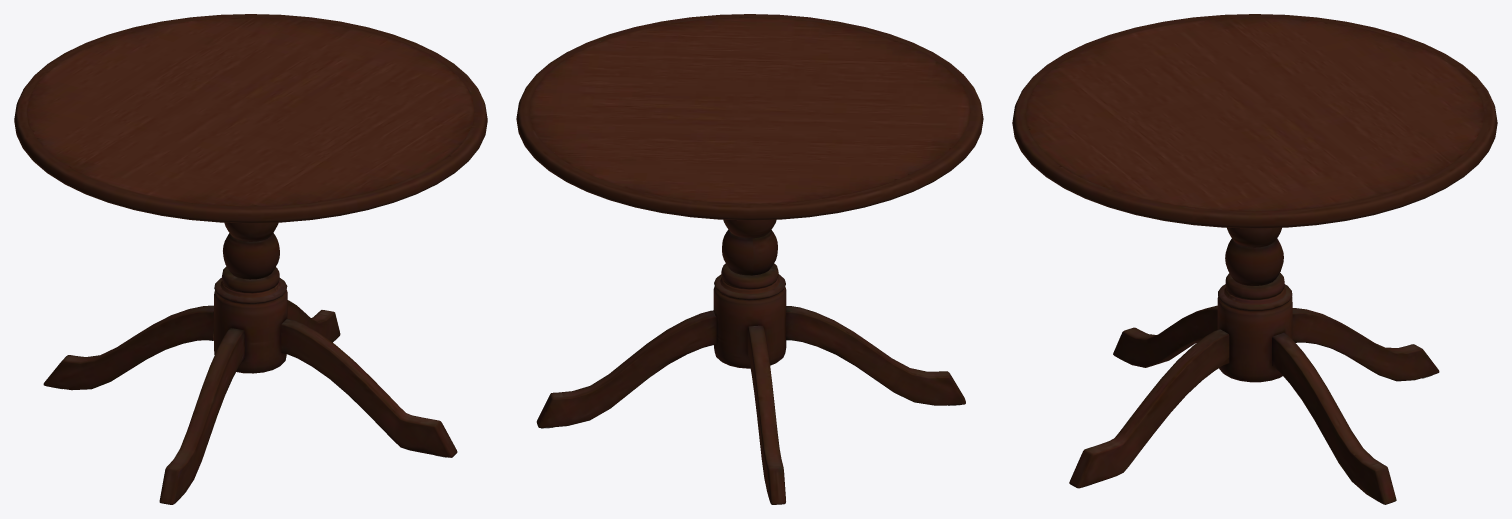
Rendered from round_wooden_table_01.glb.
3 renders of one model, left to right at view 1: azimuth 30°, elevation 25°; view 2: azimuth 150°, elevation 25°; view 3: azimuth 270°, elevation 25°, orthographic. The views are drawn at different scales.
Parts seen in each view (by area): view 1: round_wooden_table_01; view 2: round_wooden_table_01; view 3: round_wooden_table_01.
Boxes of the visible parts, x1,y1,x2,y2 form: round_wooden_table_01: (14, 14, 487, 504); round_wooden_table_01: (516, 14, 983, 504); round_wooden_table_01: (1012, 14, 1497, 504).
Bounding box in the file's own units: 1.4 × 1.01 × 1.4.
1 material, 1 textured.
